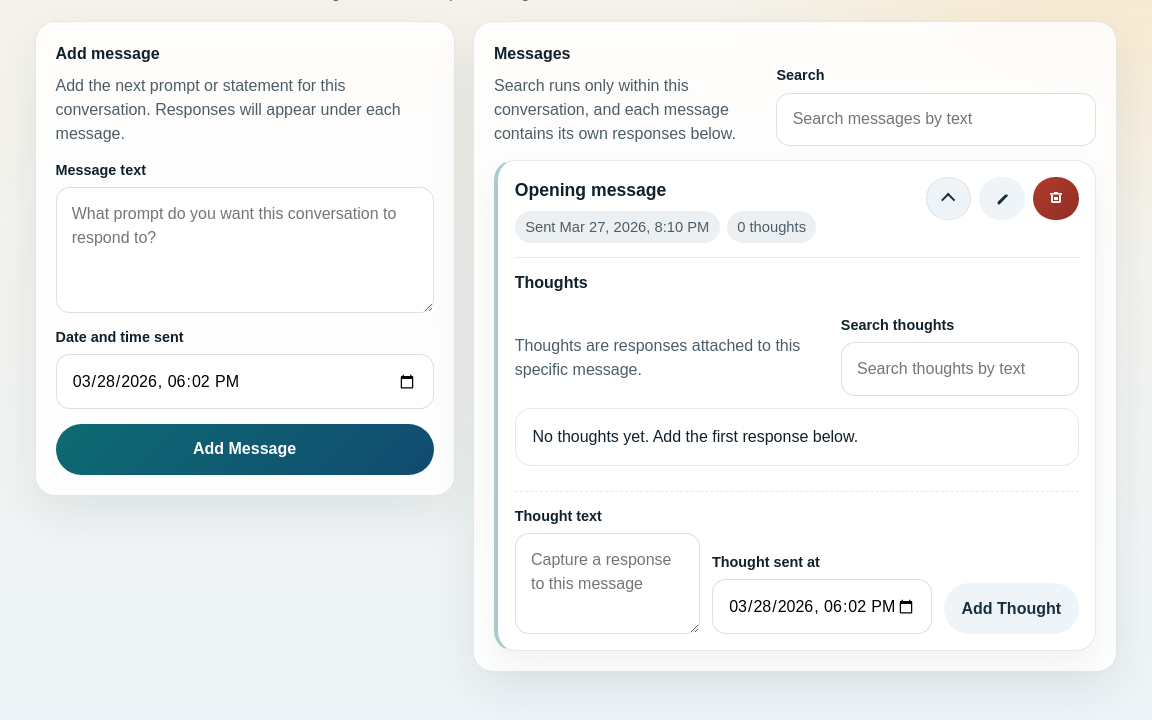
Test: ConversationDetailPage › creates a thought under the correct message
(page scrolled)
Check: the heading "Opening message" is shown, box [515,180,666,200]
Type "Strong agreement" into the text box labelled "Thought text".
click(607, 584); type("Strong agreement")  # box [515,533,700,634]
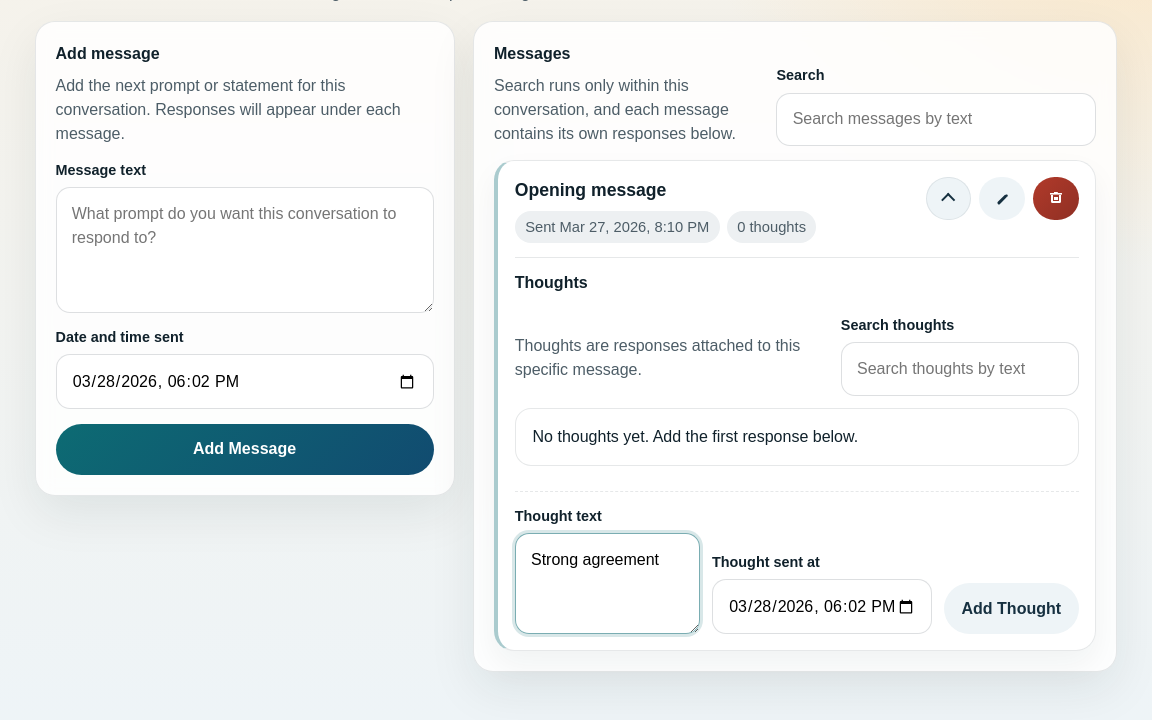
Replace the text in the field labelled "Thought sent at" with "2026-03-27T13:12" at (822, 607), box [712,579,932,634]
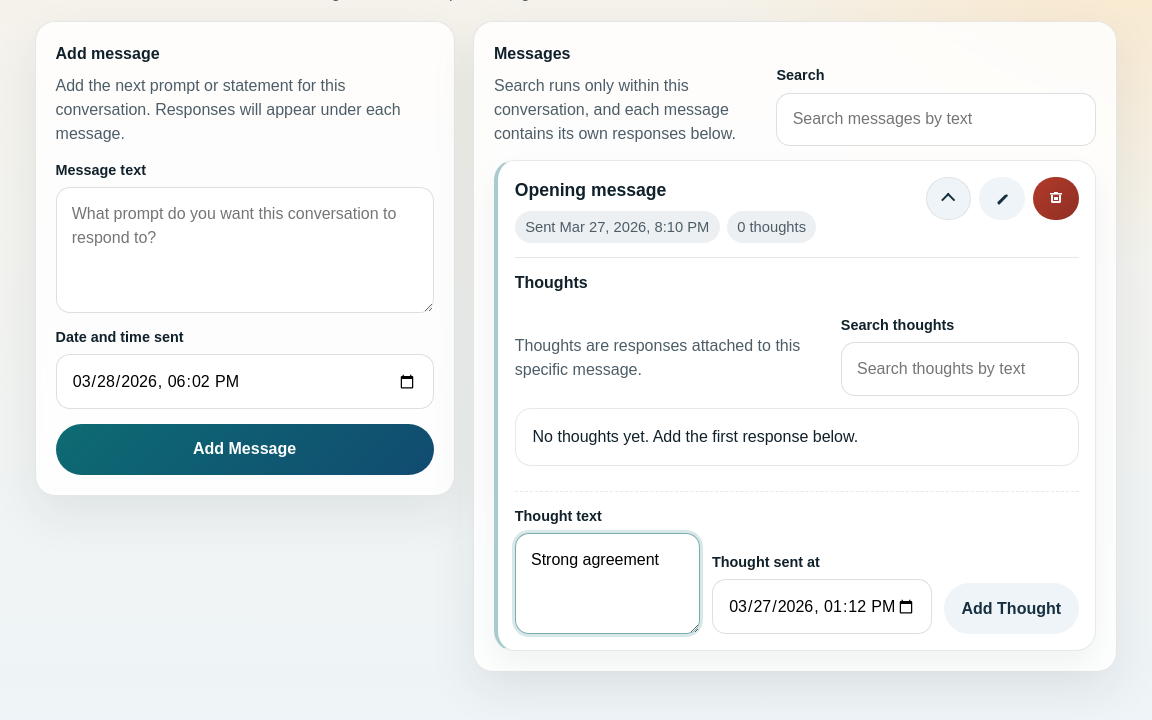
Click the button "Add Thought".
click(1011, 609)  # box [944,583,1079,634]
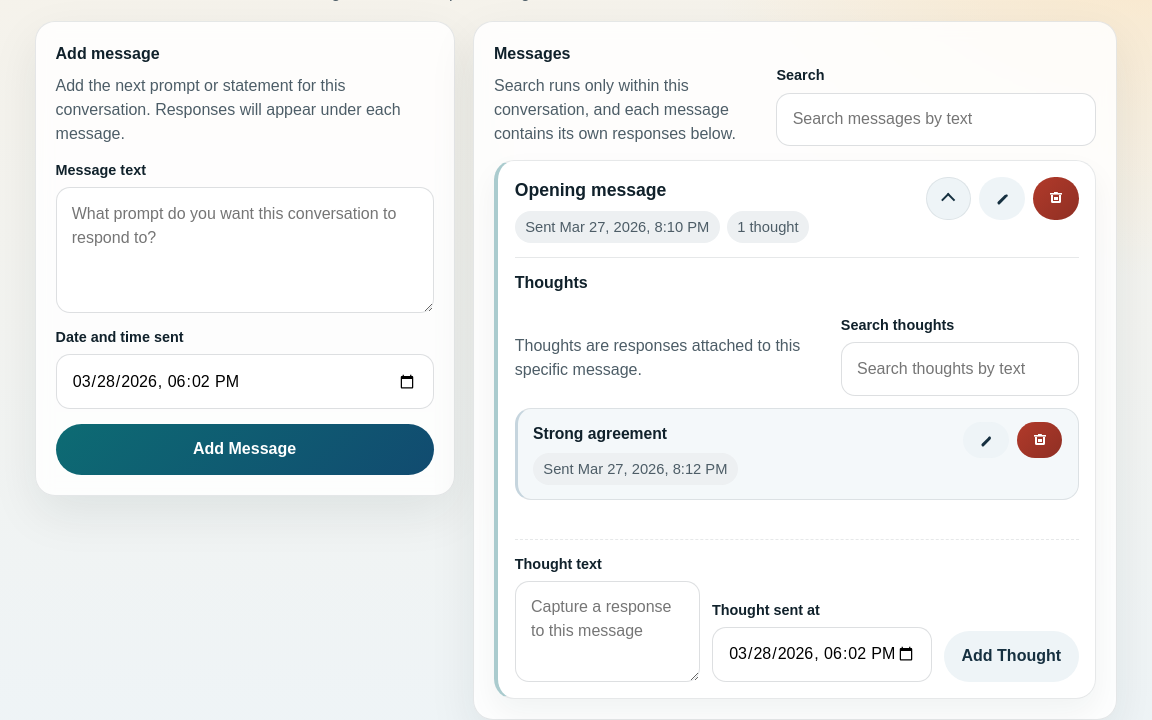
Check: the text "Strong agreement" is shown, box [533,425,667,442]
